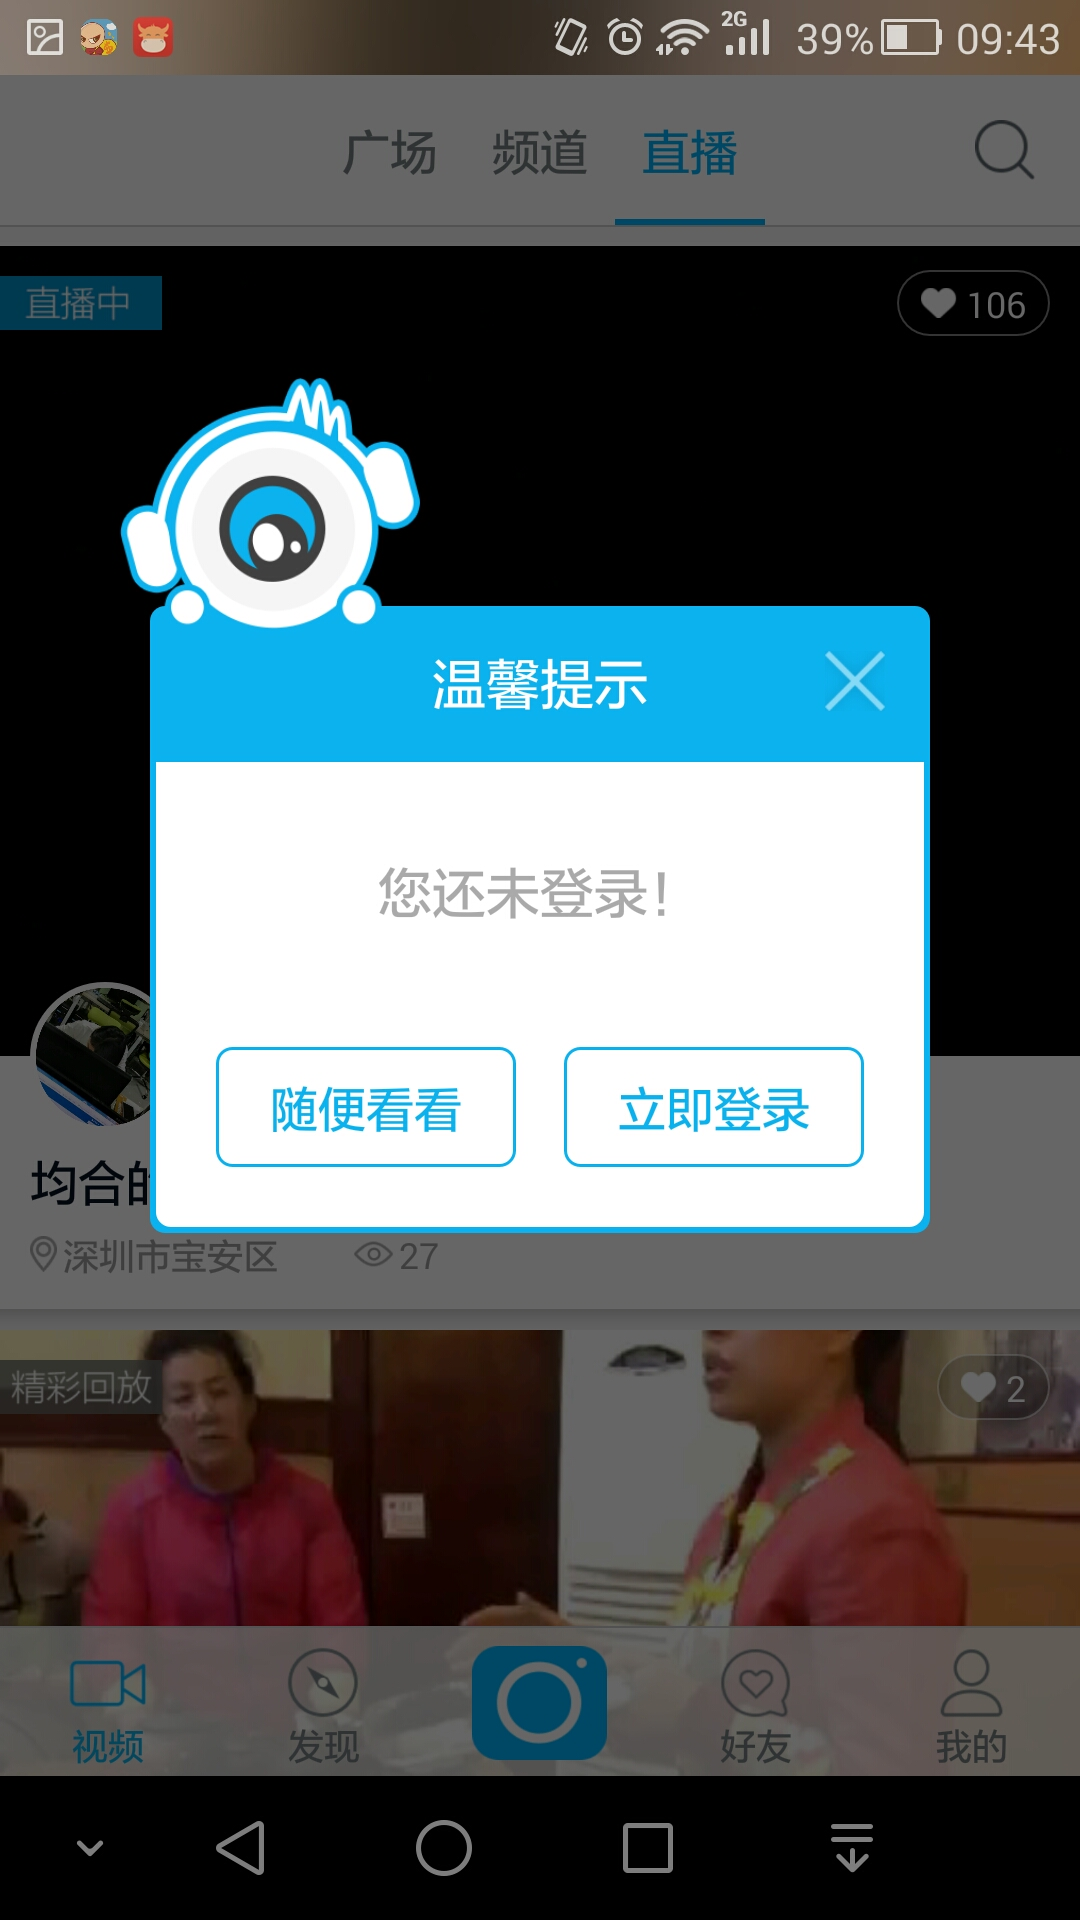alert: (123, 368, 947, 1251)
button: (198, 1035, 527, 1184), (555, 1036, 882, 1185)
imgbutton: (804, 632, 894, 733)
textview: (357, 835, 692, 959)
